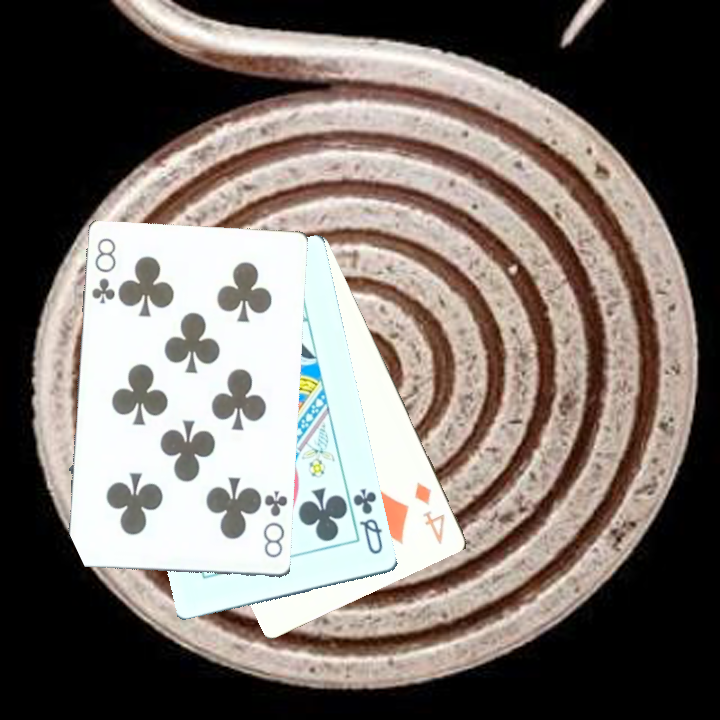4d: (409, 478, 448, 547)
8c: (248, 484, 288, 560), (88, 234, 119, 306)
Qc: (336, 484, 385, 557)
